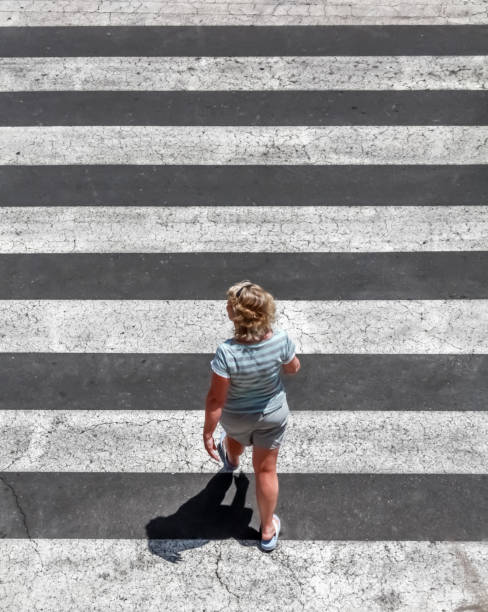person: (197, 280, 295, 553)
